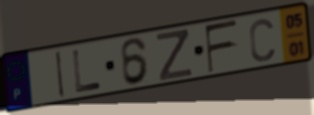6: (119, 35, 149, 87)
C: (247, 17, 277, 64)
F: (203, 18, 240, 75)
I: (54, 49, 67, 101)
L: (70, 48, 103, 95)
Z: (155, 28, 195, 83)
